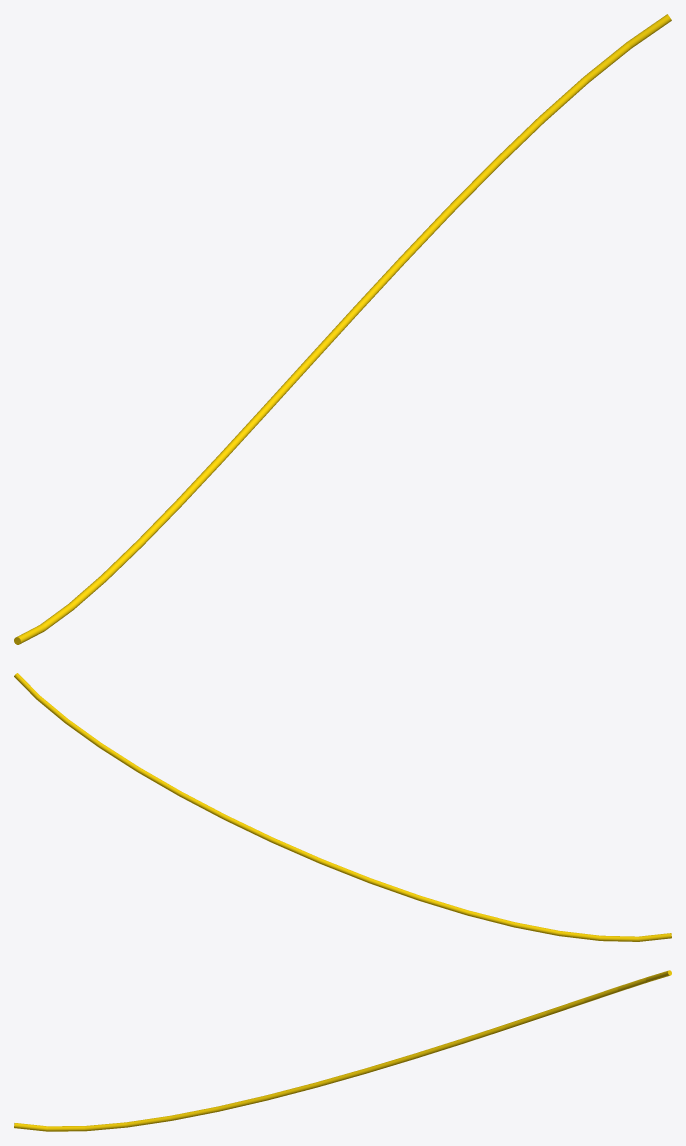
File: Event_420107950_track_7.fbx
3 views of the same model, one above another, from view 1: azimuth 30°, elevation 25°; view 2: azimuth 150°, elevation 25°; view 3: azimuth 330°, elevation 25° (orthographic). The views are drawn at different scales.
Visible parts, largest first — view 1: Model; view 2: Model; view 3: Model.
Boxes of the visible parts, x1,y1,x2,y2 form: Model: (14,14,671,644); Model: (14,673,671,941); Model: (14,970,671,1131).
Size of the model in its own units: 4.7 by 1.75 by 1.68.
